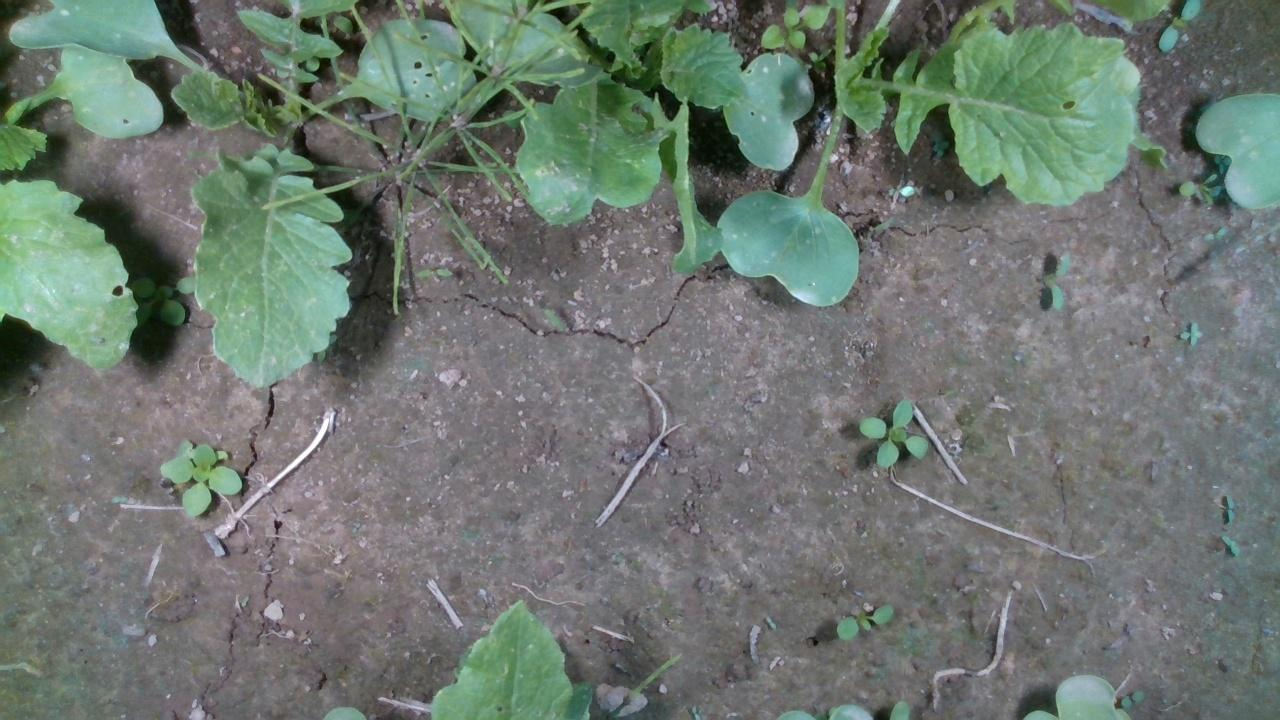weed: (832, 601, 895, 642)
